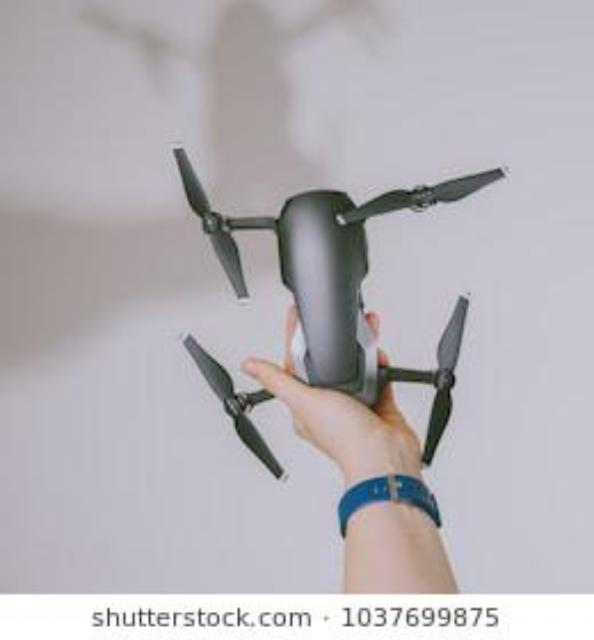drone: (131, 121, 551, 497)
